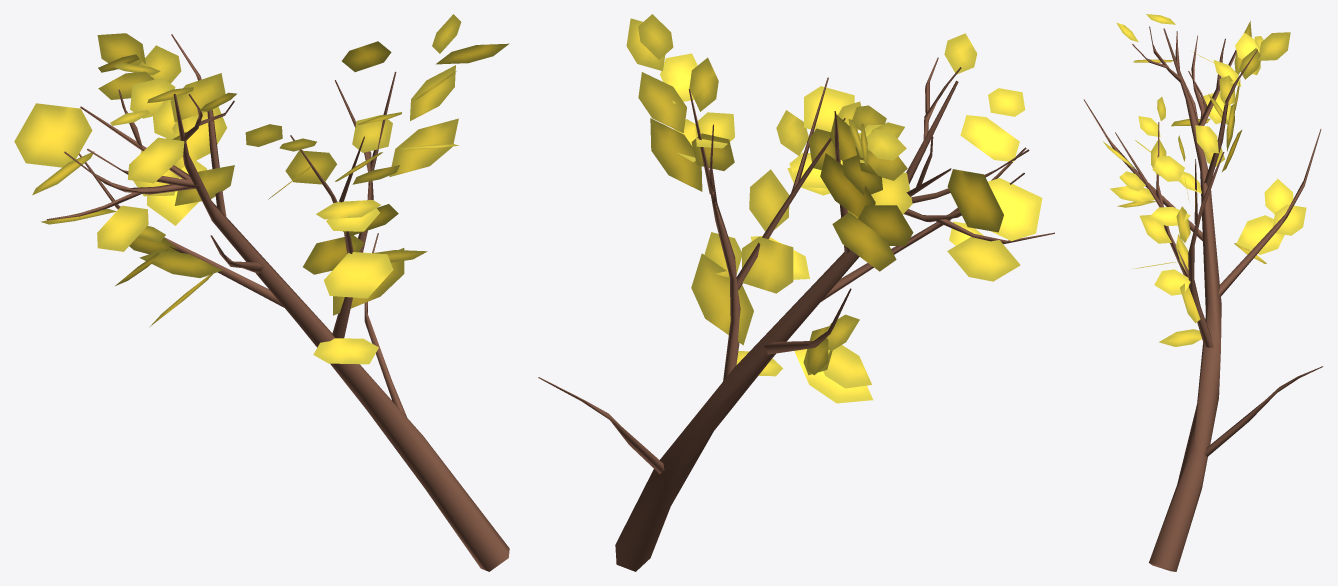
File: branche.fbx
The picture shows the model from 3 angles, left to right: view 1: azimuth 30°, elevation 25°; view 2: azimuth 150°, elevation 25°; view 3: azimuth 270°, elevation 25°; orthographic projection. The views are drawn at different scales.
Visible parts, largest first — view 1: leaves.007, tree.008; view 2: leaves.007, tree.008; view 3: tree.008, leaves.007.
Part boxes in pixels (left/top/right/bottom): leaves.007: left=14, top=14, right=509, bottom=364; tree.008: left=46, top=34, right=509, bottom=571; leaves.007: left=626, top=14, right=1042, bottom=403; tree.008: left=538, top=57, right=1054, bottom=571; tree.008: left=1083, top=26, right=1323, bottom=571; leaves.007: left=1103, top=14, right=1306, bottom=346.
Size of the model in its own units: 1.29 by 1.58 by 0.7793.
